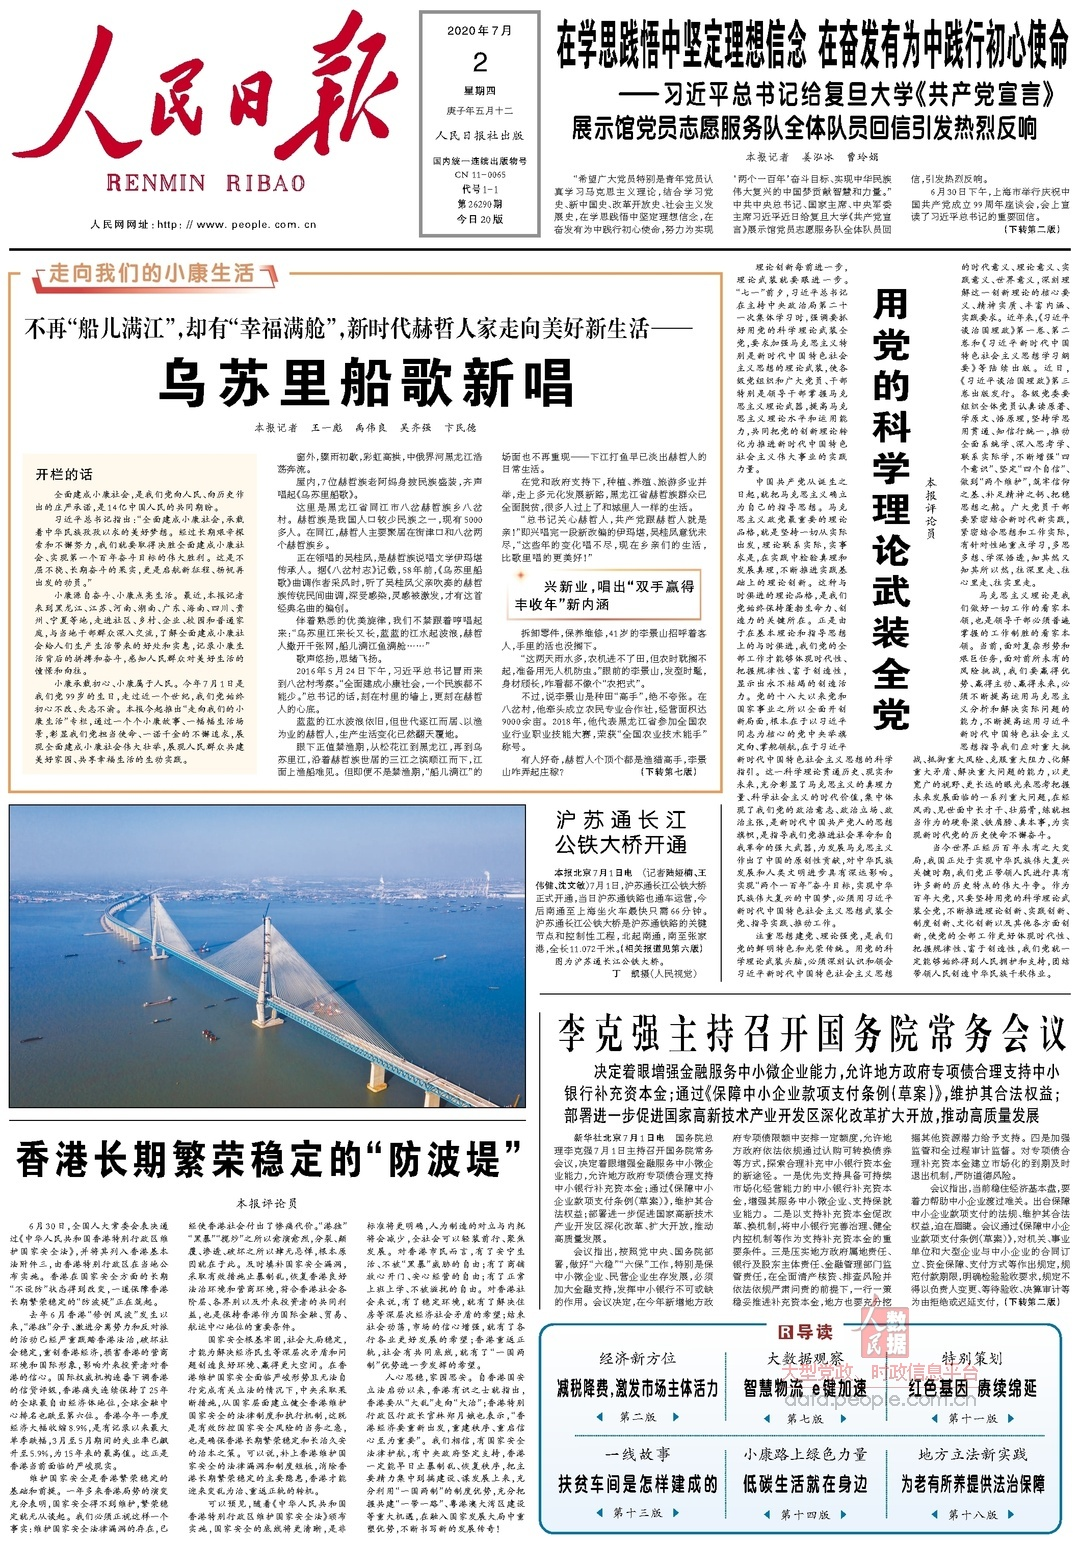pic: (6, 801, 529, 1112)
